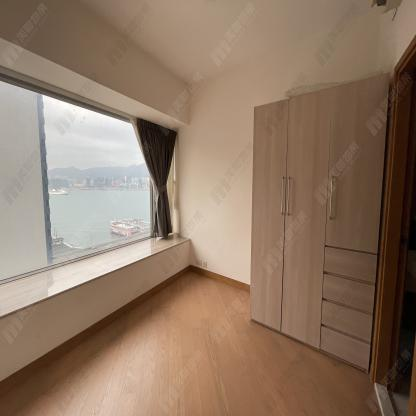Closet: (249, 73, 390, 373)
Windowsill: (0, 39, 192, 317)
